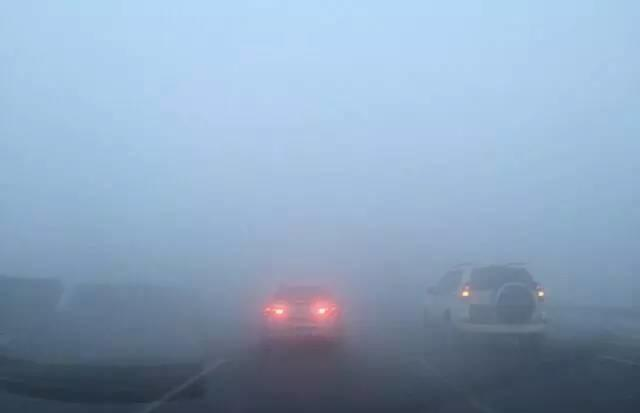car: (413, 259, 552, 356), (262, 277, 346, 355)
